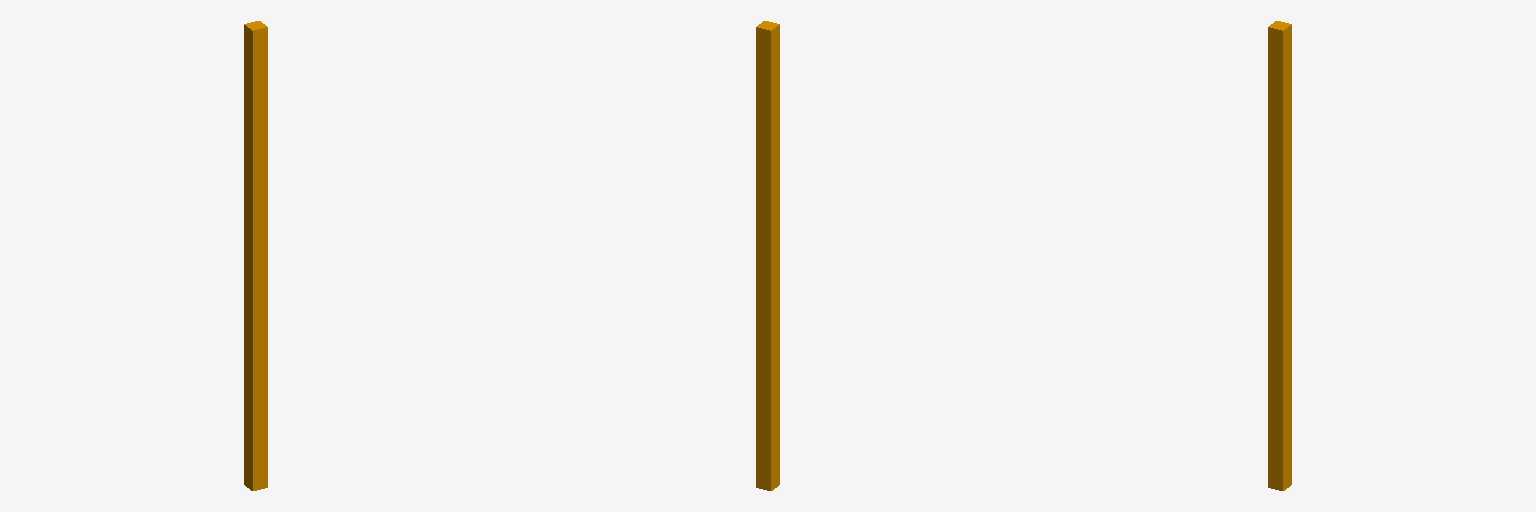
robot.urdf — box:
<?xml version='1.0' encoding='UTF-8'?>
<robot name="box">
    <link name="base_link">
        <inertial>
            <origin xyz="0.0 0.0 0.0" rpy="0.0 -0.0 0.0"/>
                <mass value="1.0"/>
            <inertia ixx="1.0" ixy="0.0" ixz="0.0" iyy="1.0" iyz="0.0" izz="1.0"/>
        </inertial>
        <visual name="base_link_visual">
            <geometry>
                <box size="0.28 0.28 8"/>
            </geometry>
            <origin xyz="0 0 0" rpy="0 0 0"/>
        </visual>
        <collision name="base_link_collision">
            <geometry>
                <box size="0.28 0.28 8"/>
            </geometry>
            <origin xyz="0 0 0" rpy="0 0 0"/>
        </collision>
    </link>
</robot>

--- Render facts (derived) ---
3 views of the same robot in one strip: view 1: azimuth 30°, elevation 25°; view 2: azimuth 150°, elevation 25°; view 3: azimuth 330°, elevation 25° (orthographic).
Model box with 1 links and 0 joints (none), rooted at base_link, posed every joint at zero.
Visible links, largest first — view 1: base_link; view 2: base_link; view 3: base_link.
Link boxes in pixels (left/top/right/bottom): base_link: left=244, top=21, right=267, bottom=490; base_link: left=756, top=21, right=779, bottom=490; base_link: left=1268, top=21, right=1291, bottom=490.
Bounding box of the posed robot: 0.28 × 0.28 × 8 m (x, y, z).
Geometry: primitives only (box / cylinder / sphere), no mesh files.